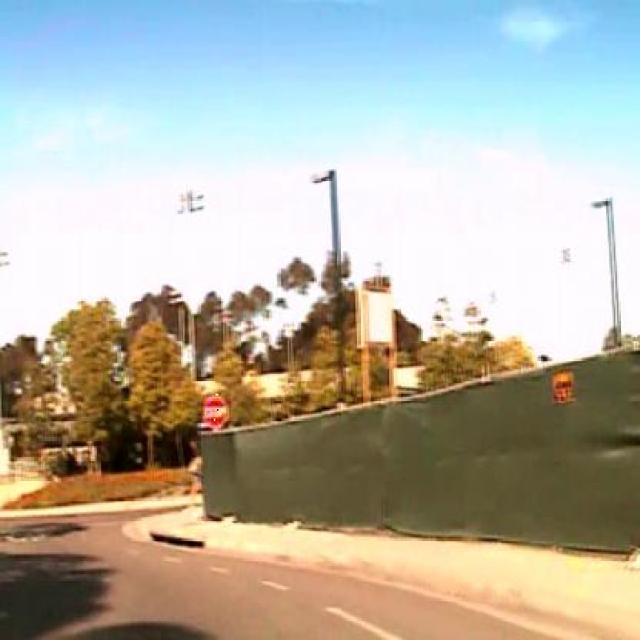stop: (203, 394, 227, 428)
